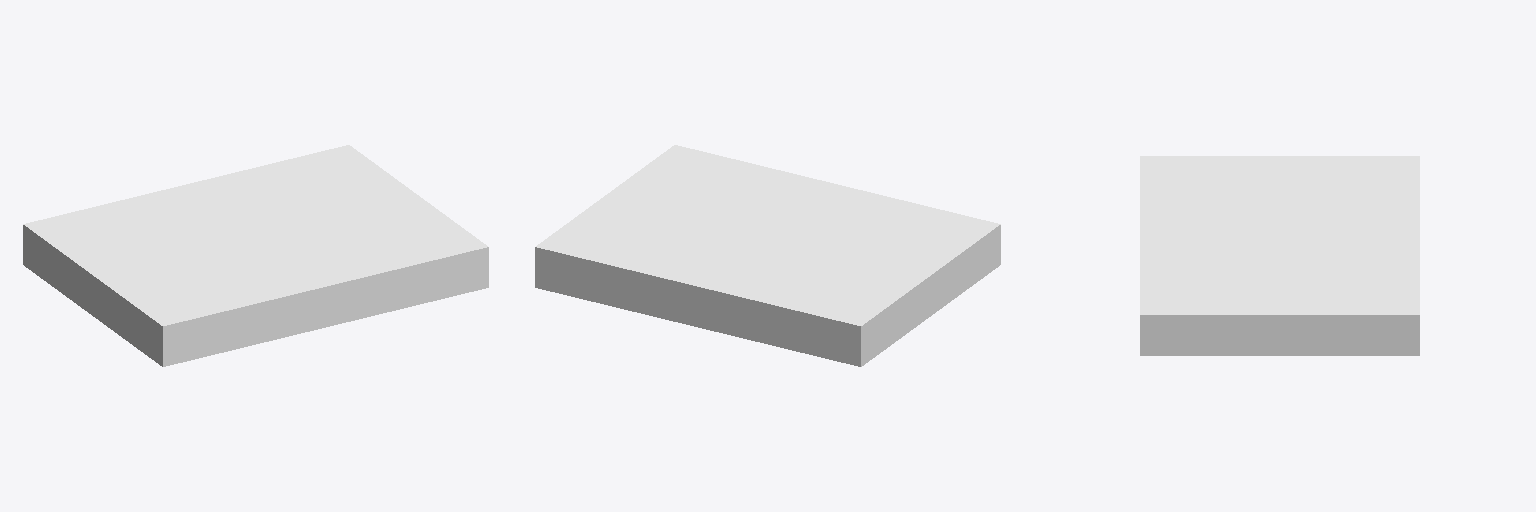
File: castelloVillafranca-3.obj
3 renders of one model, left to right at view 1: azimuth 30°, elevation 25°; view 2: azimuth 150°, elevation 25°; view 3: azimuth 270°, elevation 25°, orthographic.
Visible parts, largest first — view 1: object 1; view 2: object 1; view 3: object 1.
Boxes of the visible parts, x1=… form: object 1: x1=23, y1=145, x2=488, y2=366; object 1: x1=535, y1=145, x2=1000, y2=366; object 1: x1=1140, y1=156, x2=1419, y2=355.
Size of the model in its own units: 15.9 by 1.9 by 11.8.